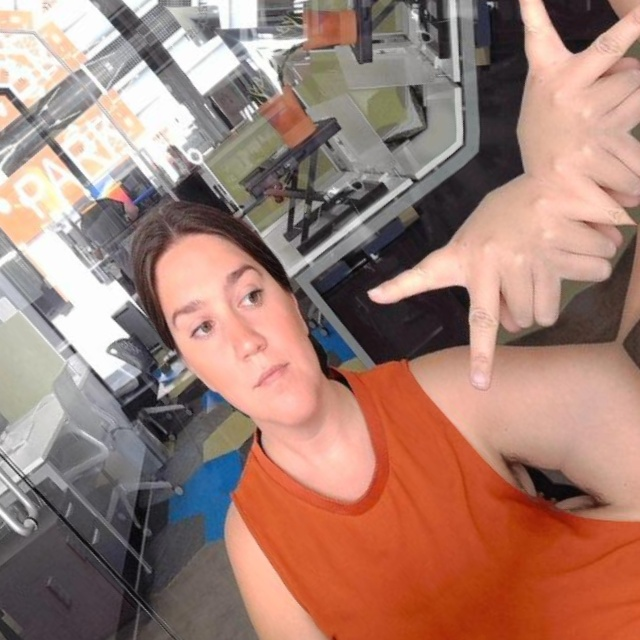Paper: (0, 40, 2, 226)
Scissors: (415, 0, 640, 207)
